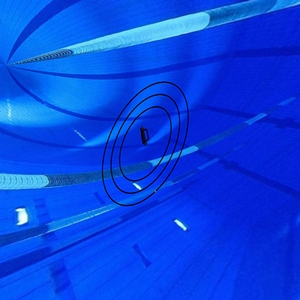circle: (102, 77, 192, 214)
submarine: (135, 124, 154, 150)
